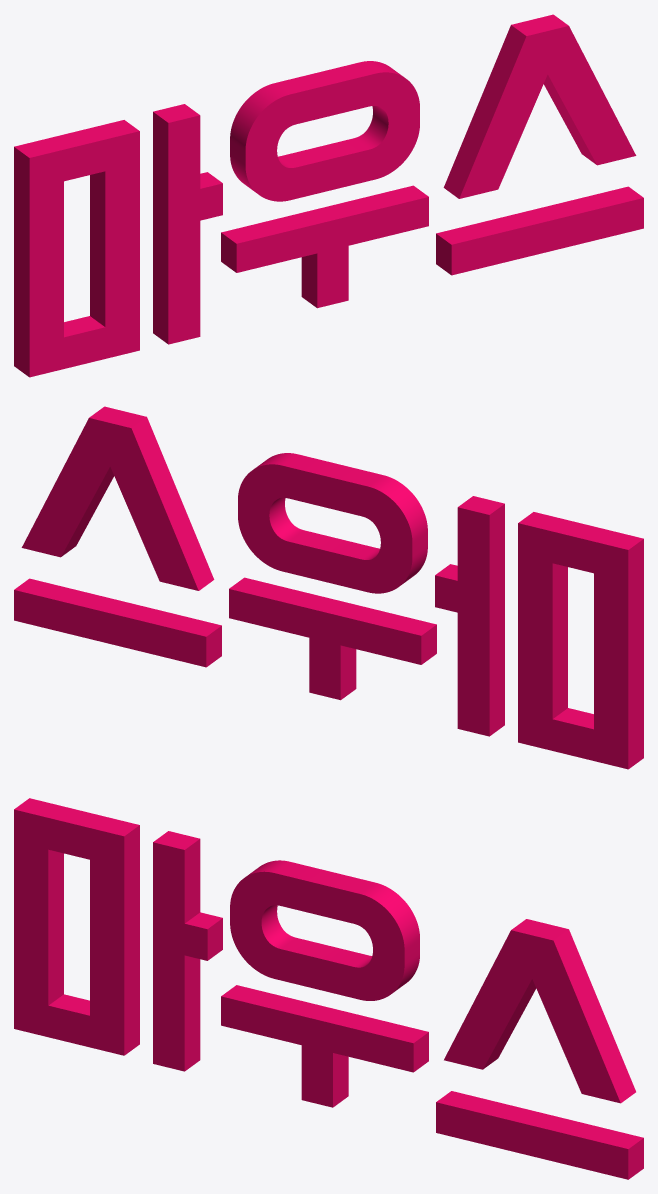
The model's file is synopMou.FBX.
3 views of the same model, one above another, from view 1: azimuth 30°, elevation 25°; view 2: azimuth 150°, elevation 25°; view 3: azimuth 330°, elevation 25° (orthographic).
Visible parts, largest first — view 1: Text015; view 2: Text015; view 3: Text015.
Part boxes in pixels (x1,y1,x2,y2): Text015: (14, 14, 643, 377); Text015: (14, 406, 643, 769); Text015: (14, 798, 643, 1179).
Size of the model in its own units: 229 by 78.82 by 10.
